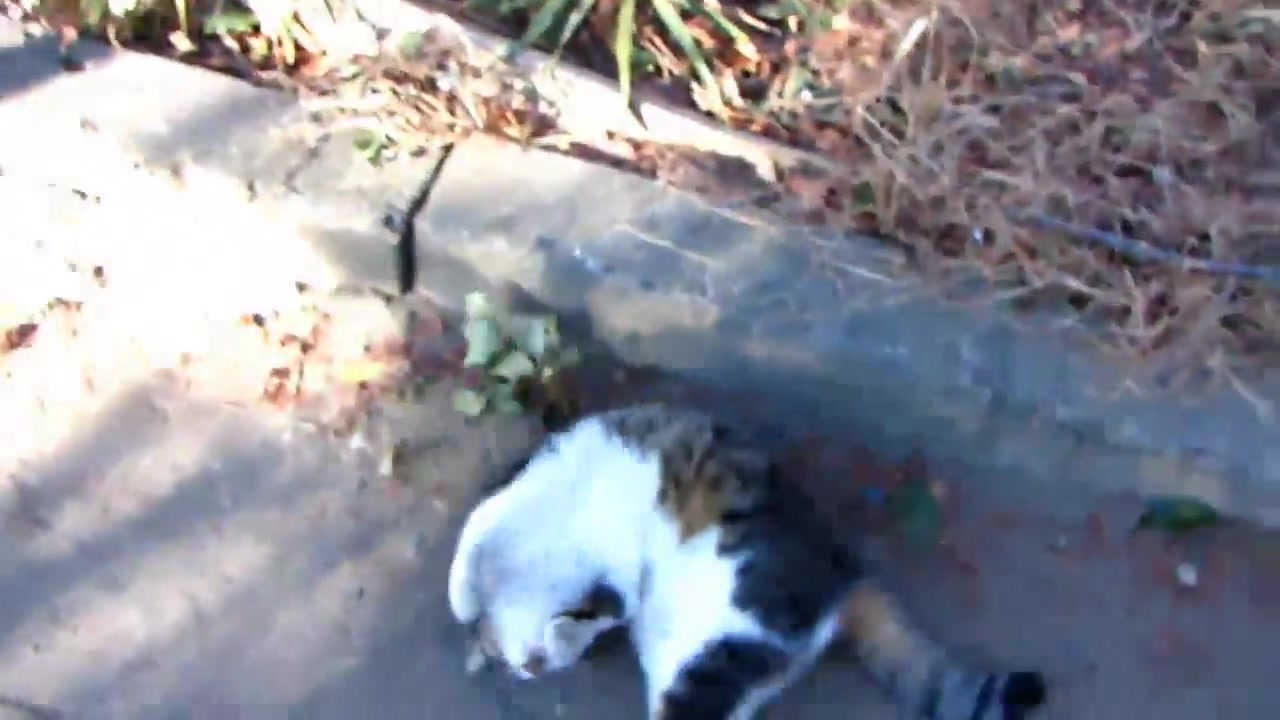cat: (440, 392, 1045, 720)
